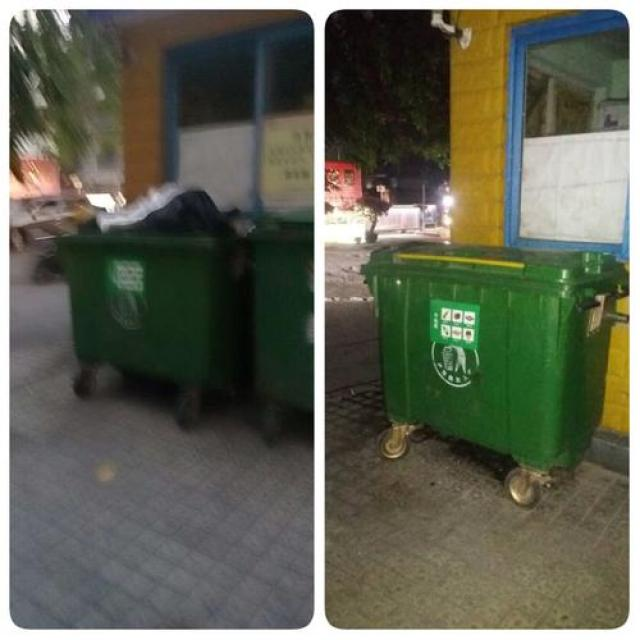garbage_bin: (358, 238, 628, 466), (248, 207, 311, 406)
overflow: (55, 182, 253, 382)
